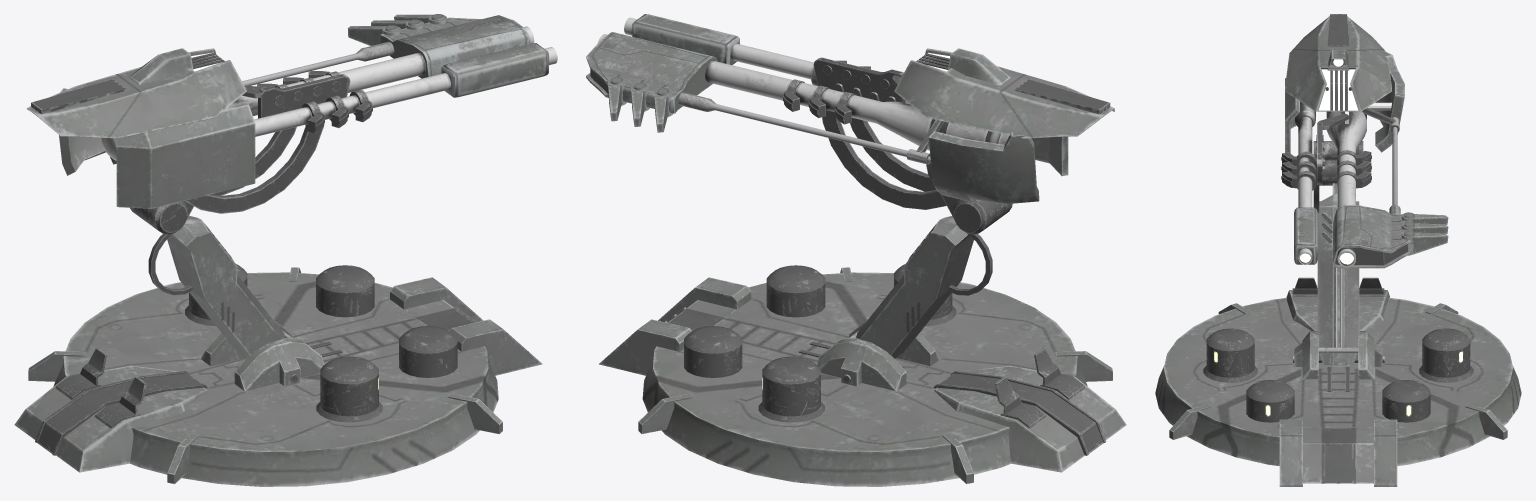
Rendered from gauss_turret.glb.
3 views of the same model, side by side, from view 1: azimuth 30°, elevation 25°; view 2: azimuth 150°, elevation 25°; view 3: azimuth 270°, elevation 25° (orthographic). The views are drawn at different scales.
Parts seen in each view (by area): view 1: turret-base, turret-barrel; view 2: turret-base, turret-barrel; view 3: turret-base, turret-barrel.
Part boxes in pixels (left/top/right/bottom): turret-base: left=14, top=237, right=542, bottom=486; turret-barrel: left=26, top=14, right=557, bottom=265; turret-base: left=599, top=237, right=1126, bottom=486; turret-barrel: left=586, top=14, right=1114, bottom=265; turret-base: left=1155, top=213, right=1521, bottom=486; turret-barrel: left=1281, top=14, right=1448, bottom=268.
Bounding box in the file's own units: 1 × 0.6947 × 0.77.
Materials: 1 (1 with a texture image).
